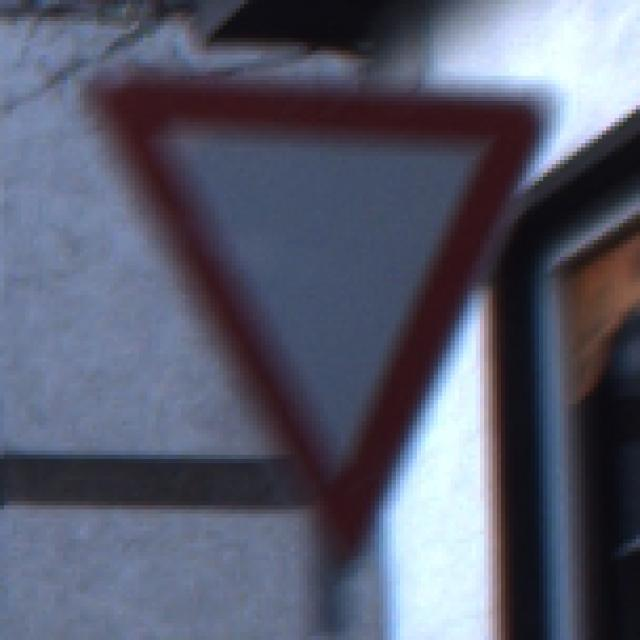give way: (65, 43, 564, 575)
